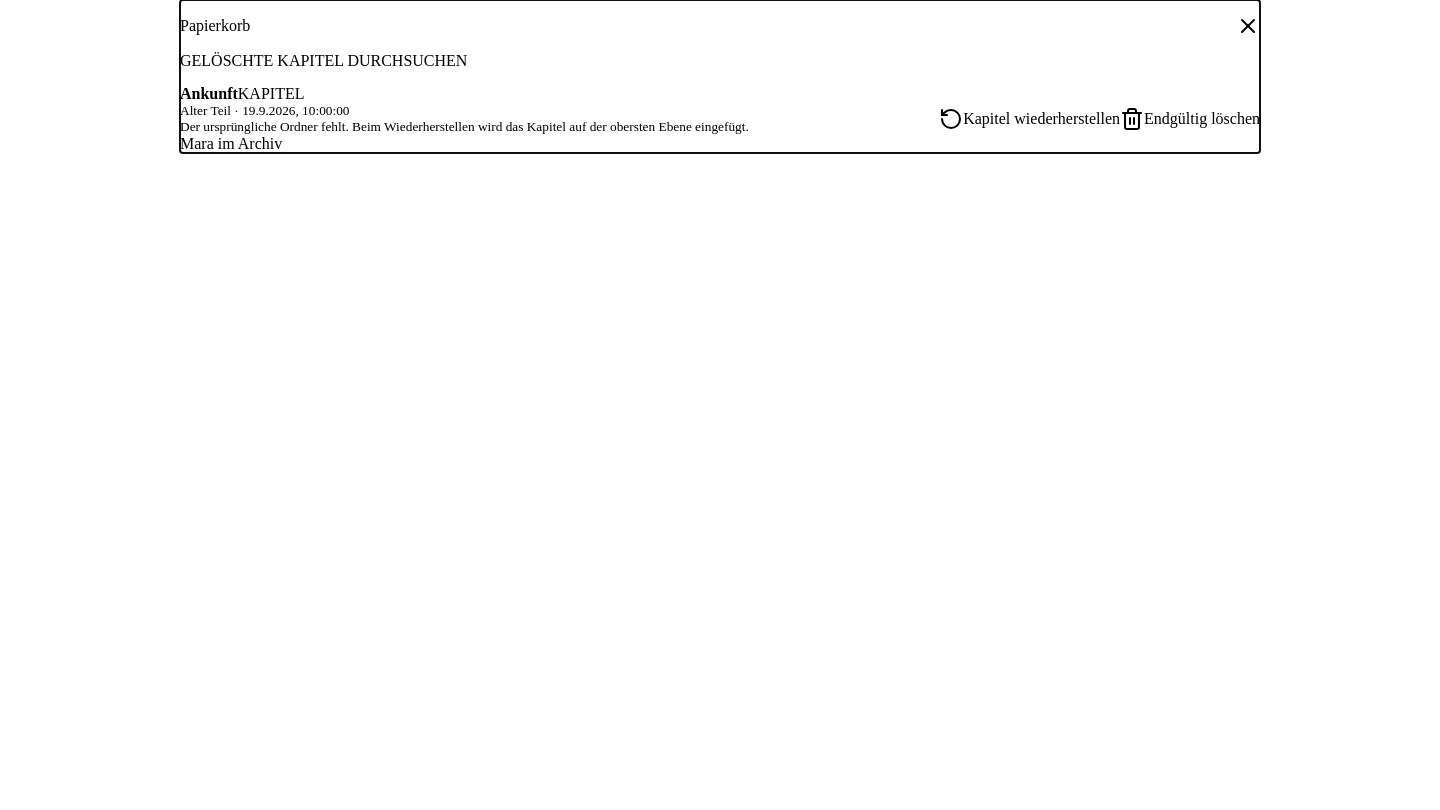
ChapterTrashDialog › explains root fallback before restore and retains missing story-time anchors
The image size is (1440, 810).
Expected: the text "ursprüngliche Ordner fehlt" is shown, left=180, top=119, right=749, bottom=134
What coordinates should you click on to do the following:
click the button "Kapitel wiederherstellen"
I would click on:
 (1030, 119)
Its box is left=939, top=107, right=1120, bottom=131.
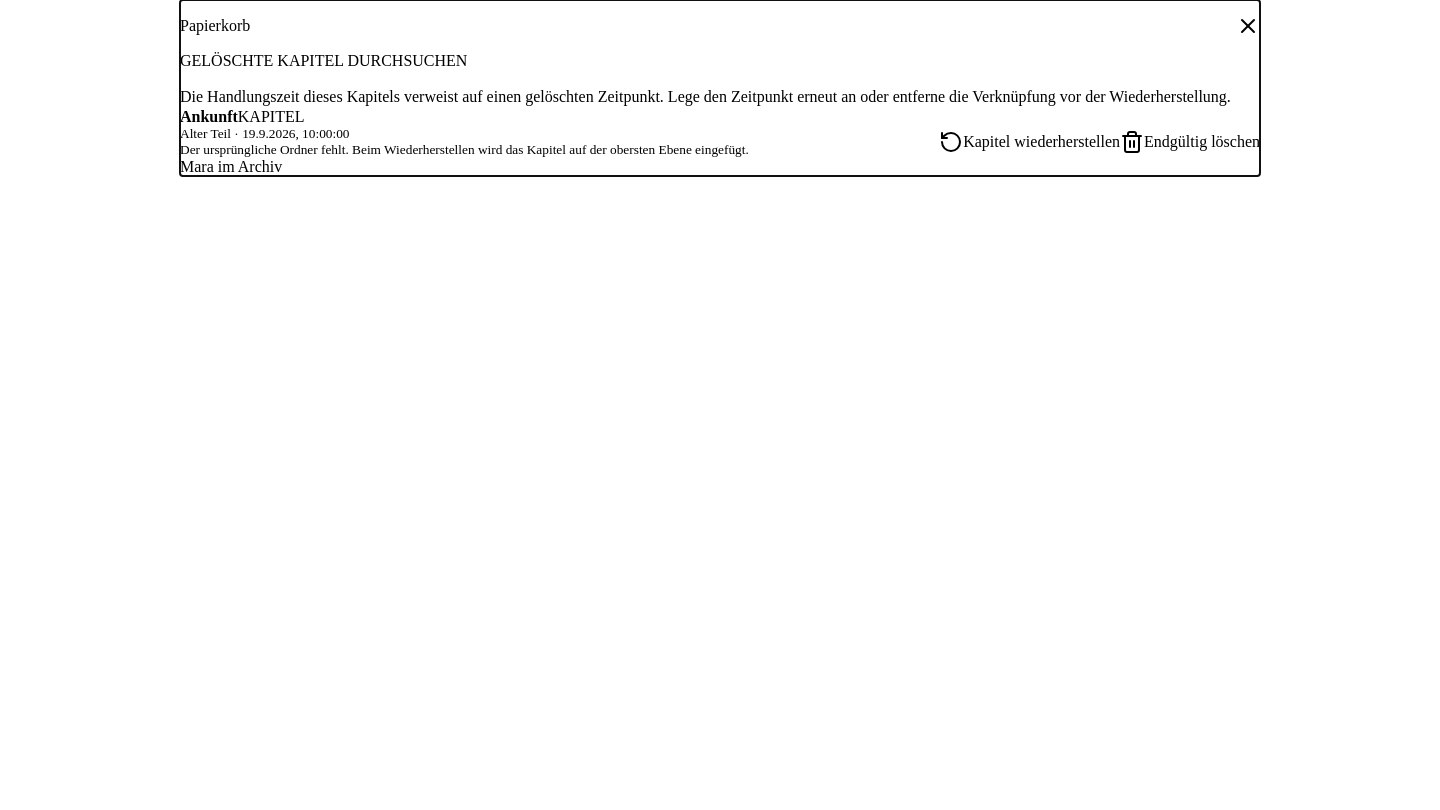
Expected: the text "Ankunft" is shown, left=180, top=108, right=238, bottom=125
Expected: the message shows "gelöschten Zeitpunkt", left=180, top=88, right=1231, bottom=105
